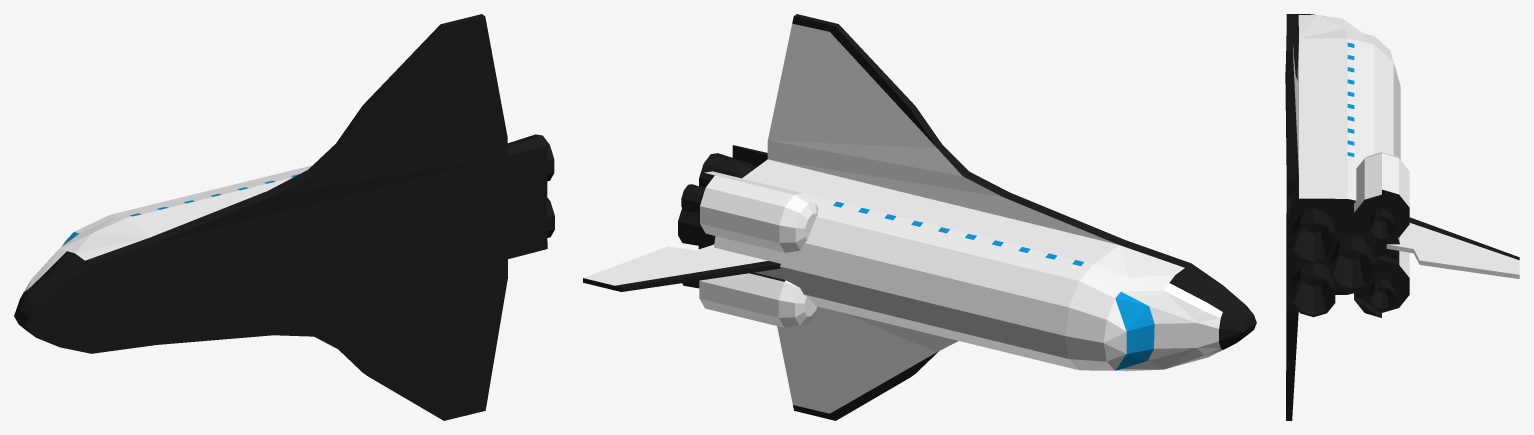
Rendered from Space Shuttle Orbiter.fbx.
3 renders of one model, left to right at view 1: azimuth 30°, elevation 25°; view 2: azimuth 150°, elevation 25°; view 3: azimuth 270°, elevation 25°, orthographic. The views are drawn at different scales.
Visible parts, largest first — view 1: imagetostl_mesh0, imagetostl_mesh8, imagetostl_mesh3, imagetostl_mesh1, imagetostl_mesh16; view 2: imagetostl_mesh1, imagetostl_mesh7, imagetostl_mesh4, imagetostl_mesh11, imagetostl_mesh9, imagetostl_mesh8, imagetostl_mesh0, imagetostl_mesh5, imagetostl_mesh2, imagetostl_mesh6, imagetostl_mesh3, imagetostl_mesh16 (+1 smaller); view 3: imagetostl_mesh1, imagetostl_mesh5, imagetostl_mesh0, imagetostl_mesh11, imagetostl_mesh16, imagetostl_mesh18, imagetostl_mesh17, imagetostl_mesh8, imagetostl_mesh10, imagetostl_mesh12, imagetostl_mesh3, imagetostl_mesh15 (+4 smaller).
Boxes of the visible parts, bbox=[...] form: imagetostl_mesh0: bbox=[14, 145, 547, 353]; imagetostl_mesh8: bbox=[150, 14, 507, 242]; imagetostl_mesh3: bbox=[157, 259, 507, 420]; imagetostl_mesh1: bbox=[24, 165, 312, 291]; imagetostl_mesh16: bbox=[507, 134, 554, 181]; imagetostl_mesh1: bbox=[714, 159, 1222, 371]; imagetostl_mesh7: bbox=[767, 23, 1118, 244]; imagetostl_mesh4: bbox=[777, 306, 957, 413]; imagetostl_mesh11: bbox=[700, 171, 818, 252]; imagetostl_mesh9: bbox=[699, 273, 817, 327]; imagetostl_mesh8: bbox=[792, 14, 1125, 244]; imagetostl_mesh0: bbox=[732, 145, 1256, 349]; imagetostl_mesh5: bbox=[584, 244, 767, 285]; imagetostl_mesh2: bbox=[833, 201, 1154, 370]; imagetostl_mesh6: bbox=[583, 261, 780, 291]; imagetostl_mesh3: bbox=[793, 351, 938, 420]; imagetostl_mesh16: bbox=[699, 153, 755, 188]; imagetostl_mesh1: bbox=[1298, 15, 1400, 243]; imagetostl_mesh5: bbox=[1386, 223, 1519, 278]; imagetostl_mesh0: bbox=[1286, 14, 1399, 312]; imagetostl_mesh11: bbox=[1354, 152, 1409, 212]; imagetostl_mesh16: bbox=[1291, 208, 1335, 263]; imagetostl_mesh18: bbox=[1330, 234, 1373, 290]; imagetostl_mesh17: bbox=[1291, 262, 1335, 317]; imagetostl_mesh8: bbox=[1285, 33, 1298, 198]; imagetostl_mesh10: bbox=[1354, 252, 1409, 317]; imagetostl_mesh12: bbox=[1354, 189, 1409, 242]; imagetostl_mesh3: bbox=[1286, 213, 1298, 420]; imagetostl_mesh15: bbox=[1369, 208, 1394, 240].
Size of the model in its own units: 244 by 167 by 96.26.
